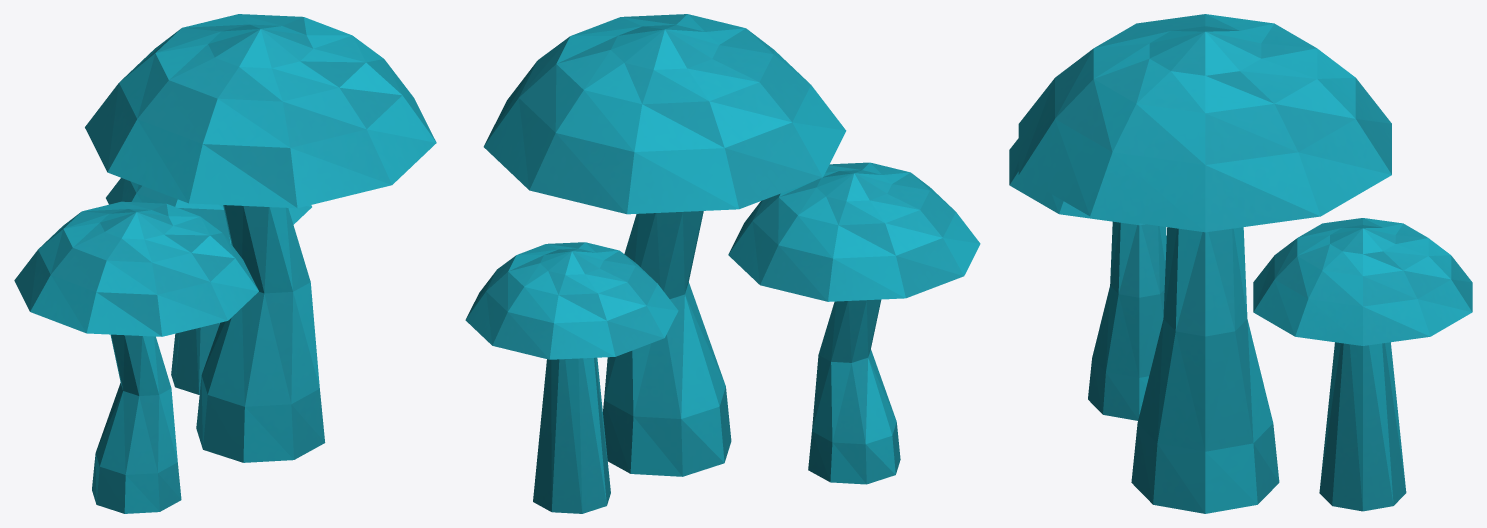
The model's file is Mushroom_Gr_4C.fbx.
3 renders of one model, left to right at view 1: azimuth 30°, elevation 25°; view 2: azimuth 150°, elevation 25°; view 3: azimuth 270°, elevation 25°, orthographic. The views are drawn at different scales.
Parts seen in each view (by area): view 1: polySurface693; view 2: polySurface693; view 3: polySurface693.
Part boxes in pixels (x1,y1,x2,y2): polySurface693: (14,14,436,513); polySurface693: (465,14,980,513); polySurface693: (1009,14,1472,513).
Bounding box in the file's own units: 256 × 240 × 223.
1 material, 1 textured.
